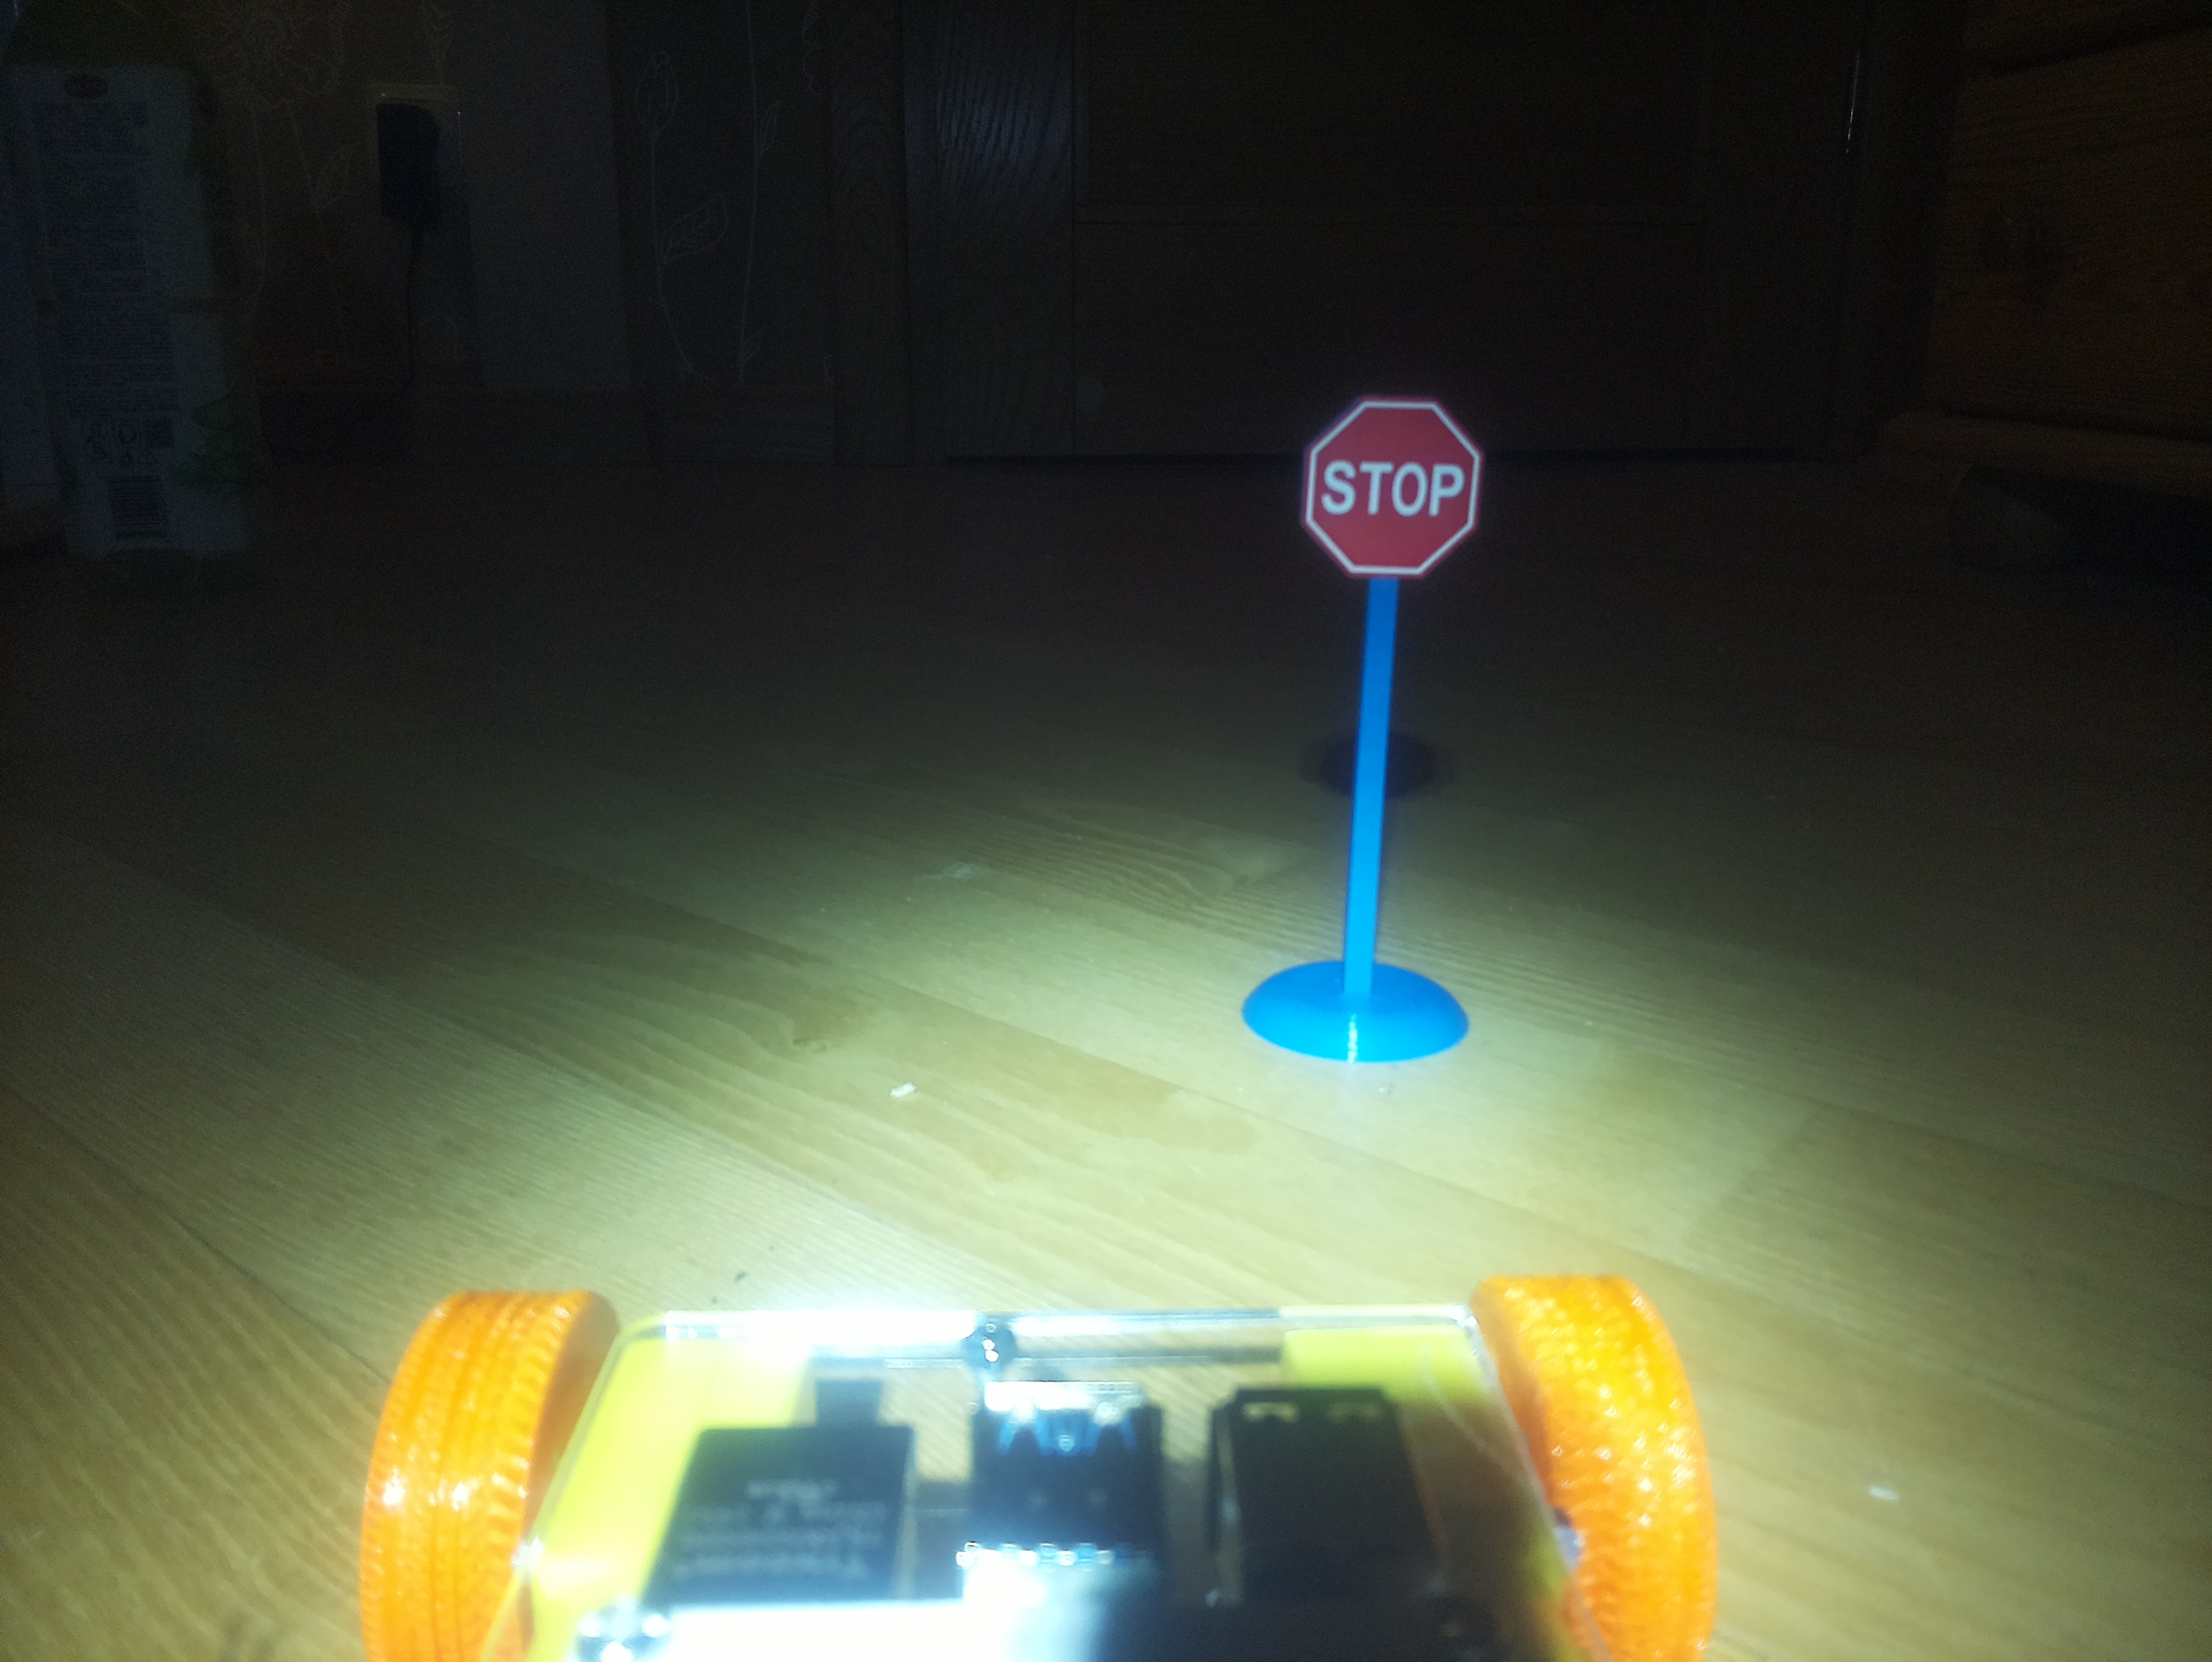stop: (1300, 397, 1485, 579)
